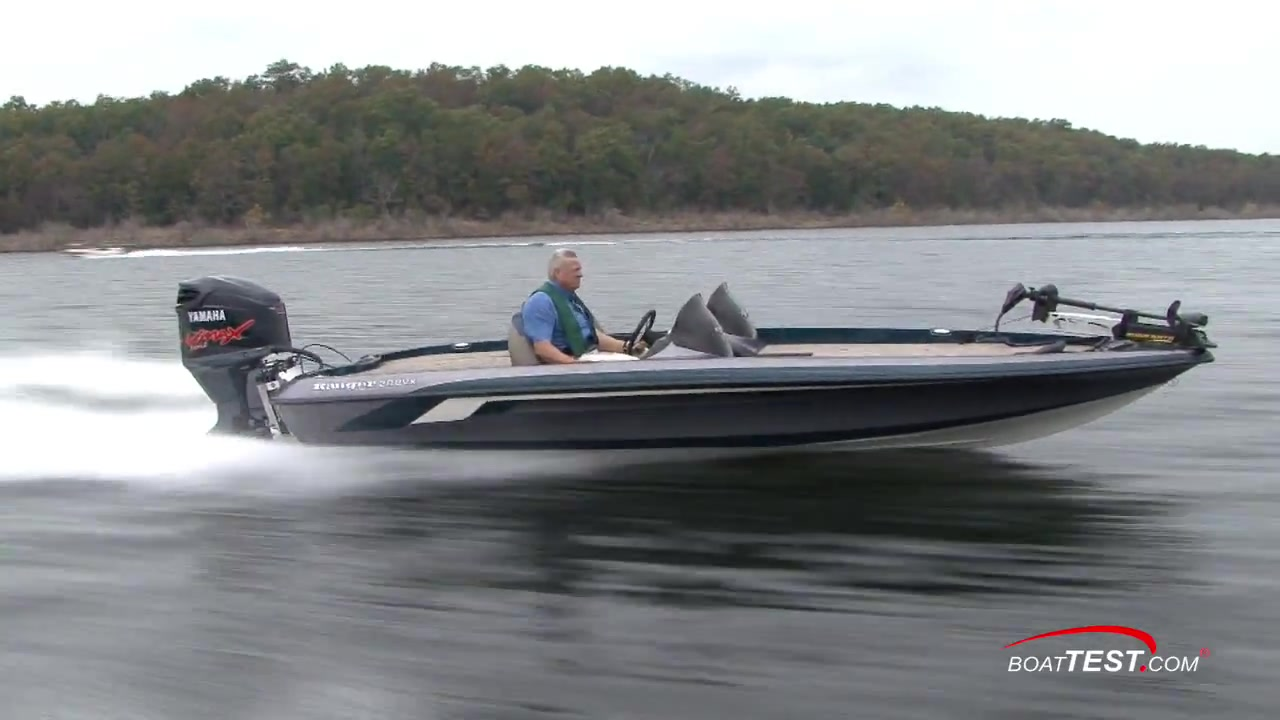boat: (173, 267, 1218, 470)
